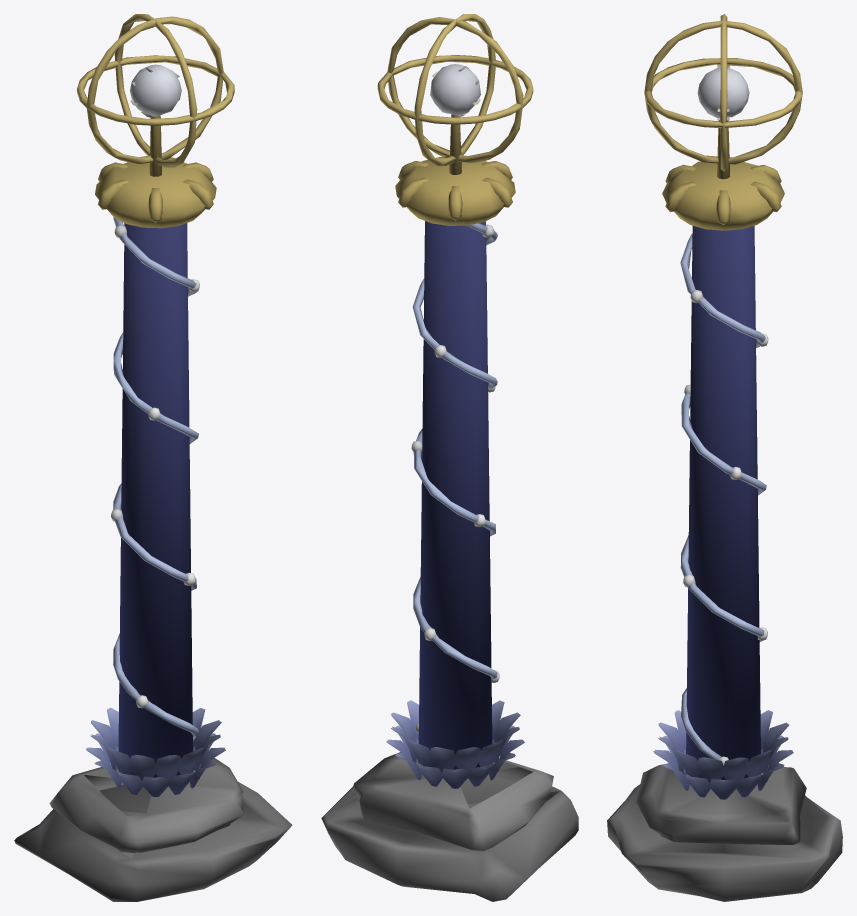
The model's file is starpillar.glb.
3 views of the same model, side by side, from view 1: azimuth 30°, elevation 25°; view 2: azimuth 150°, elevation 25°; view 3: azimuth 270°, elevation 25° (orthographic).
Visible parts, largest first — view 1: starpillar; view 2: starpillar; view 3: starpillar.
Part boxes in pixels (x1,y1,x2,y2): starpillar: (14,14,292,901); starpillar: (321,14,578,901); starpillar: (607,14,842,901).
Bounding box in the file's own units: 0.9739 × 3.9 × 0.9975.
